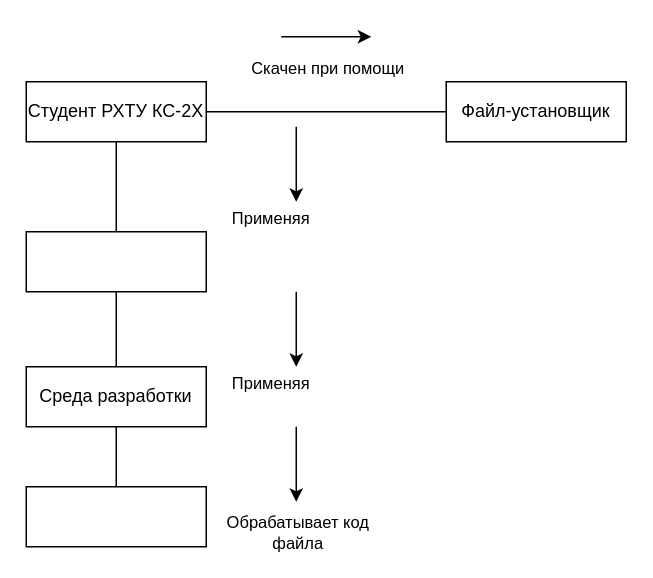
Image size: 653x578. Some labels were removed from this diagram. The centre of each missing label's shape, as x and y in pixels:
"Python" goes at point 115,516.
"Устойство" goes at point 115,261.
